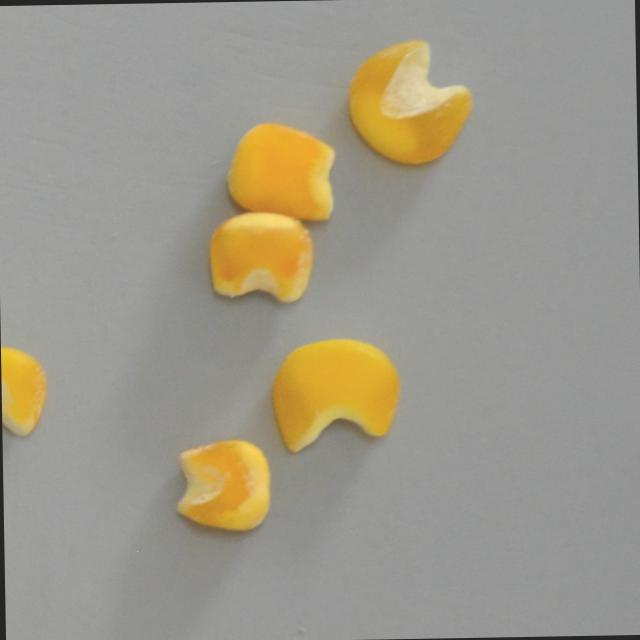no_canjicado: (348, 37, 473, 166), (270, 335, 400, 452), (226, 120, 337, 224), (208, 209, 312, 304), (174, 438, 270, 531), (0, 341, 45, 436)
